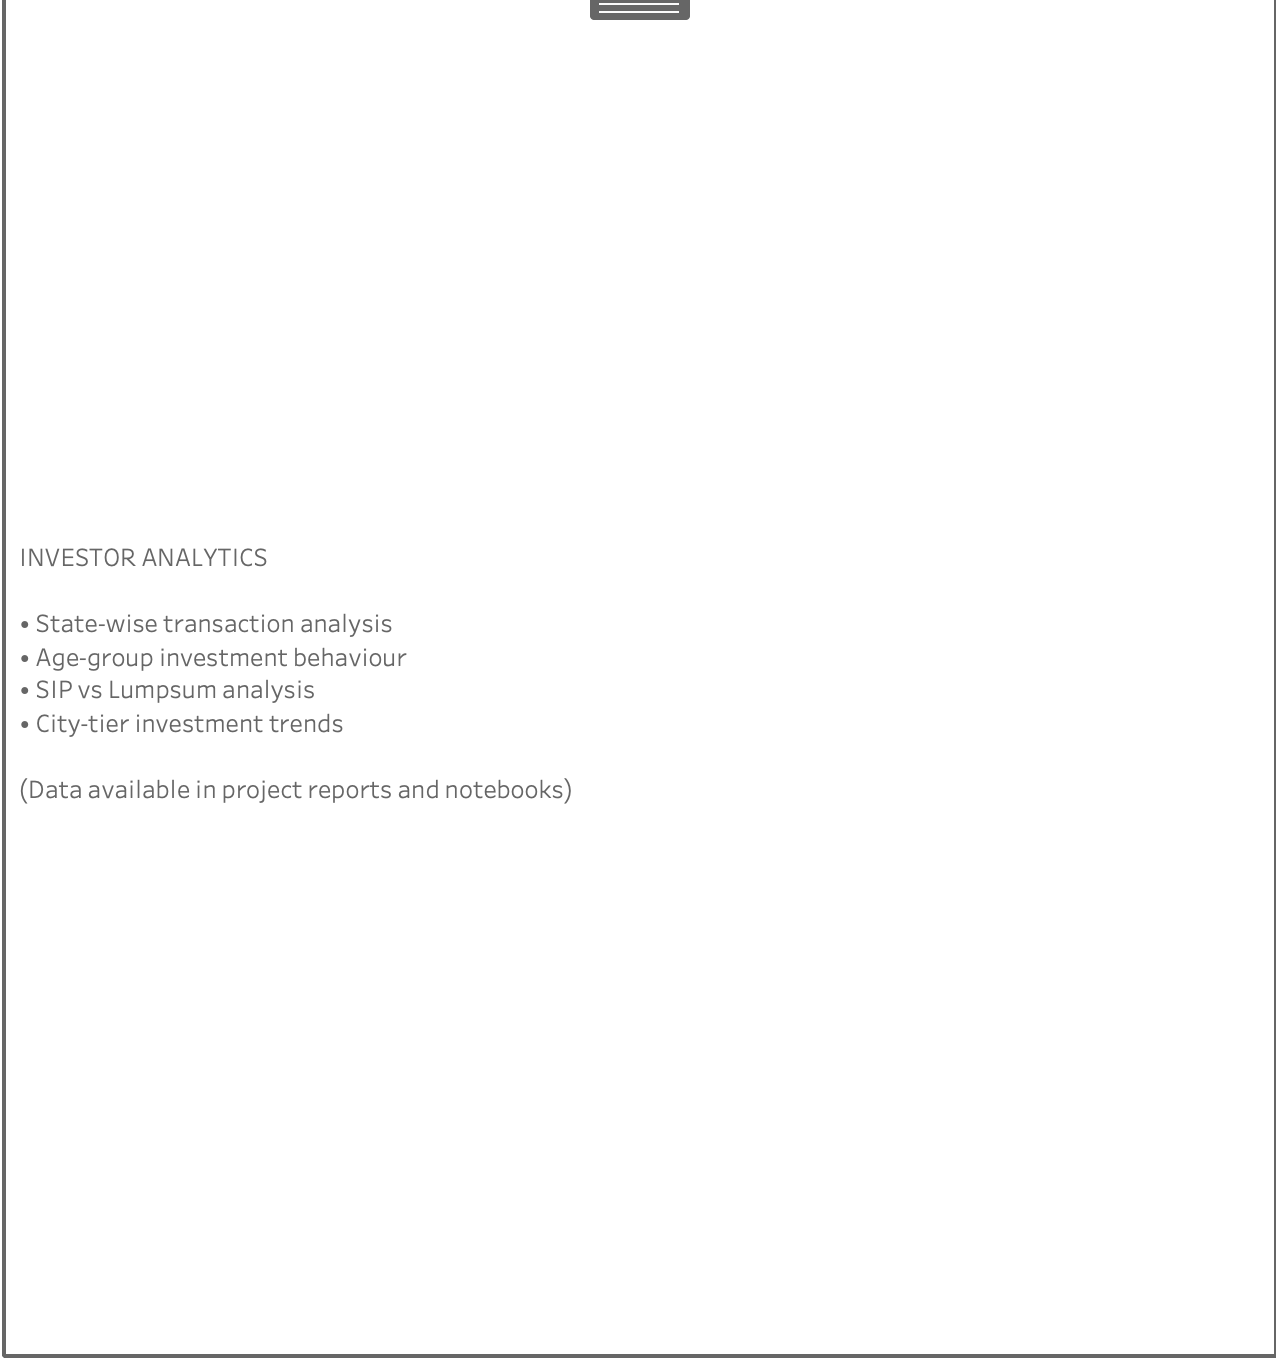

Layout of this report page (visuals, bound fields, positions):
{"tool":"tableau","page":{"name":"Investor Analytics","canvas":[650,860],"ordinal":2},"visuals":[{"type":"text","box":[8,9.9,634,840.1]}]}

Visuals, with their boxes on the page's 650x860 design canvas (x1, y1, x2, y2). These are canvas units, not pixel positions in the 1276x1358 screenshot, which may show the page scaled, cropped or inside an application window:
text: [8,10,642,850]
